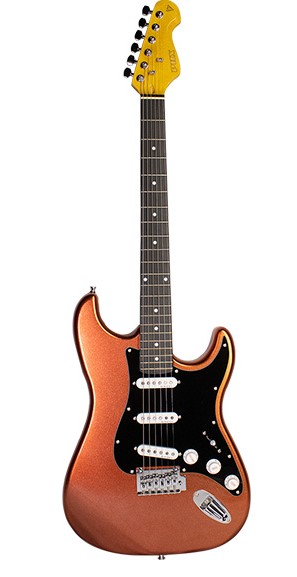guitar: (62, 5, 254, 569)
